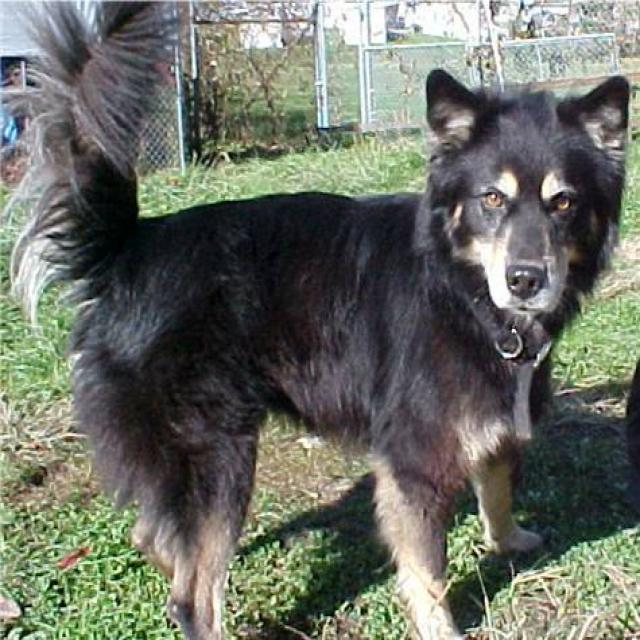dog: (0, 0, 631, 639)
